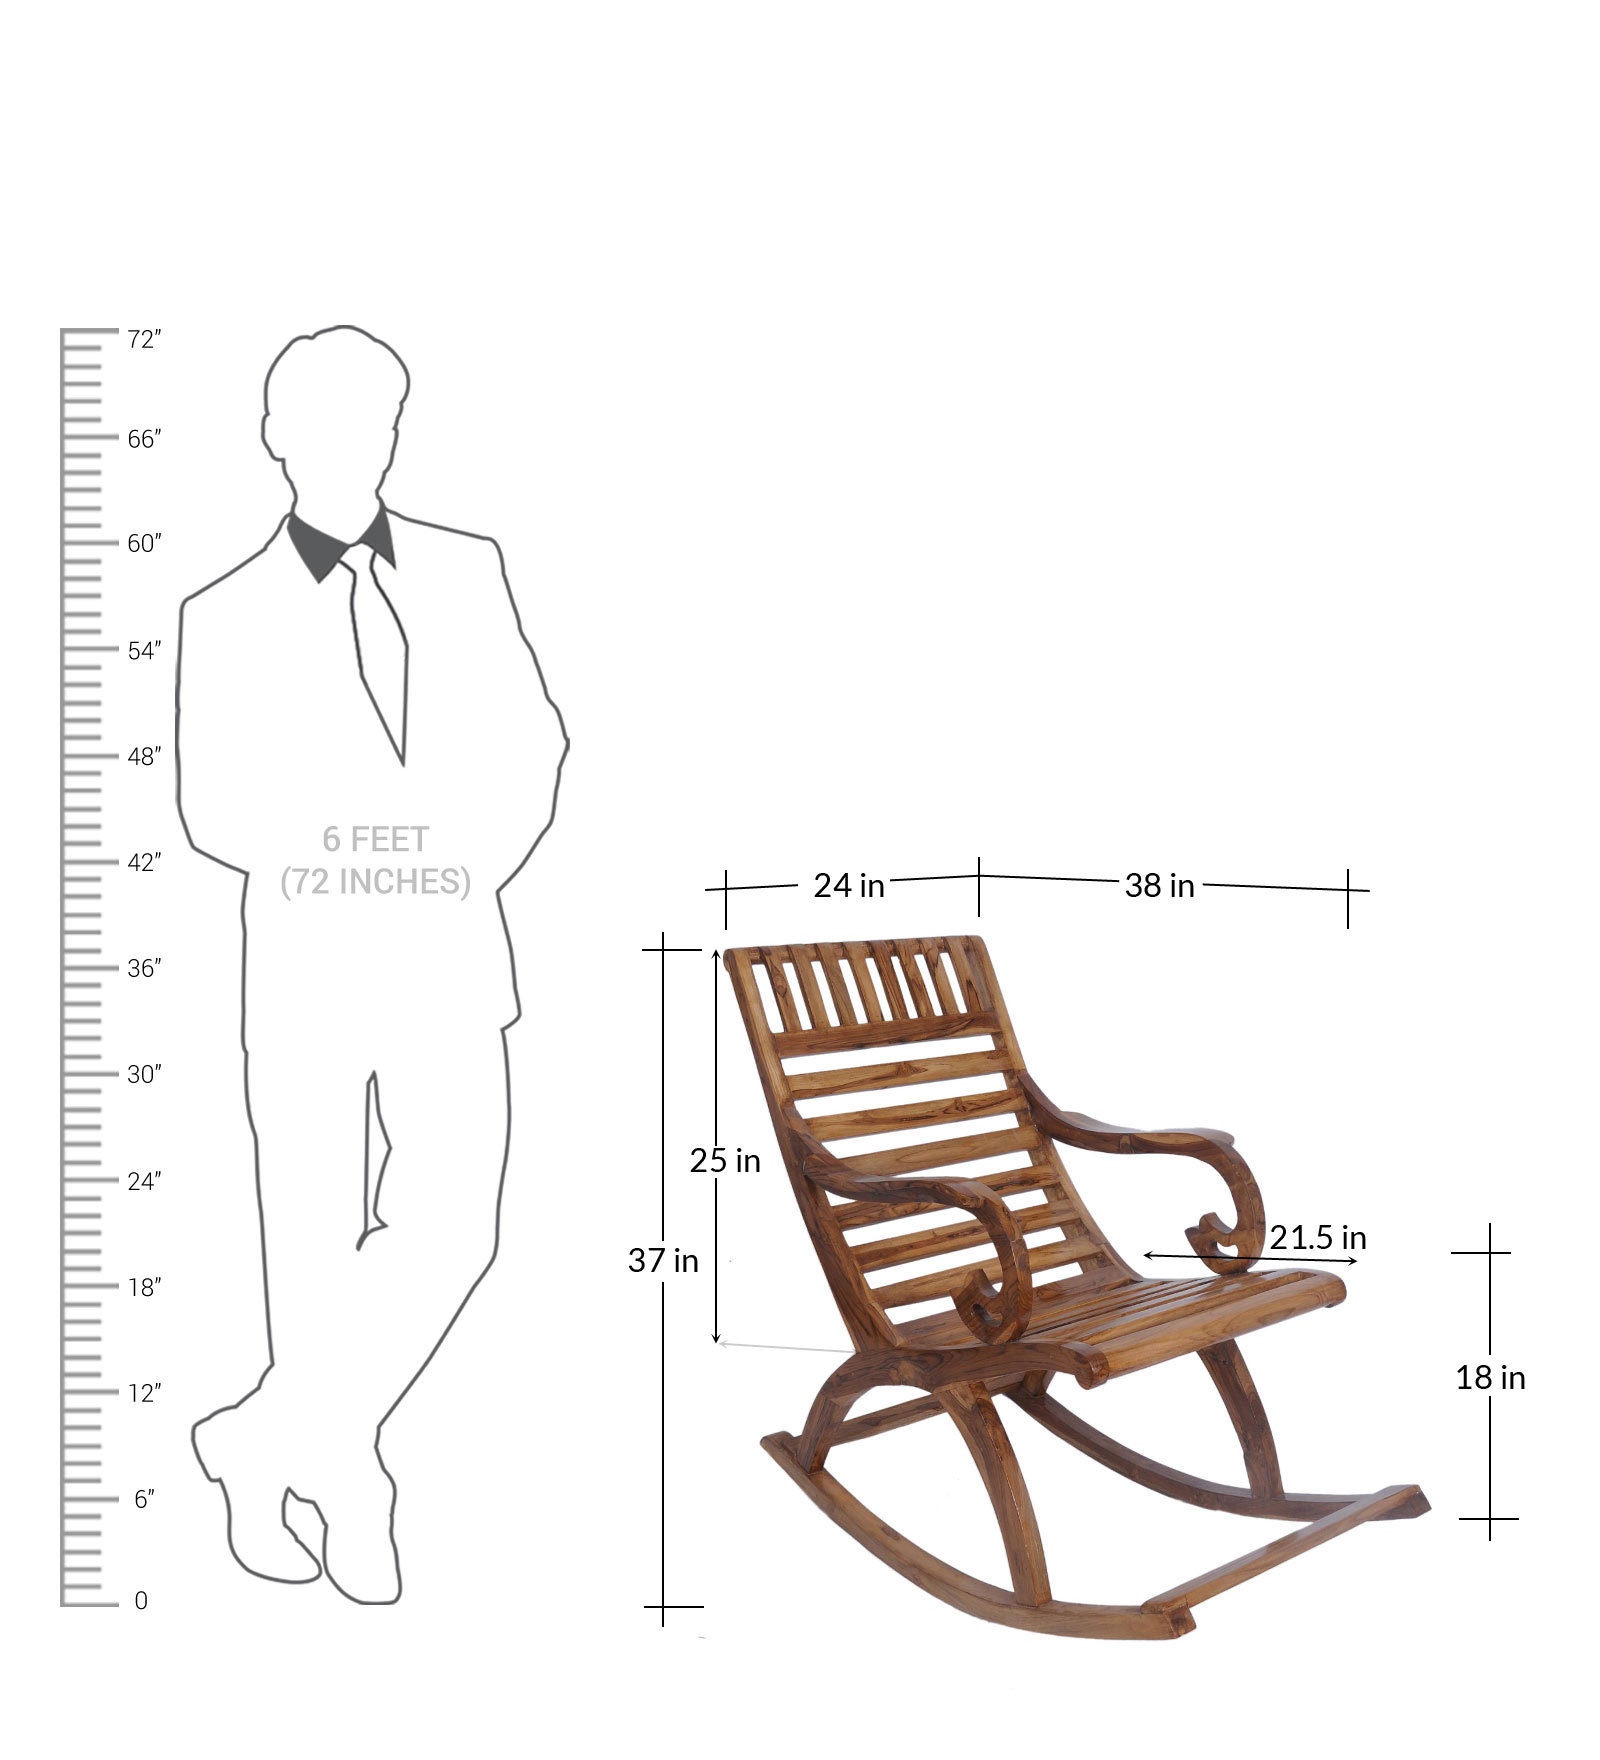Teak Wood Rocking Chair in Light Teak Finish by Karigar: (710, 934, 1451, 1659)
